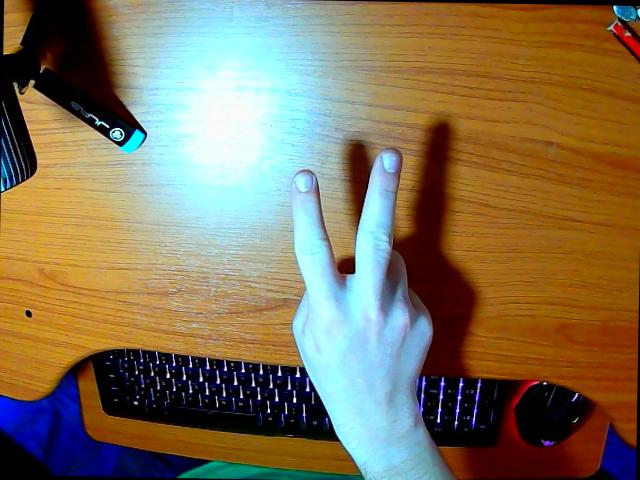scissors: (292, 148, 456, 480)
